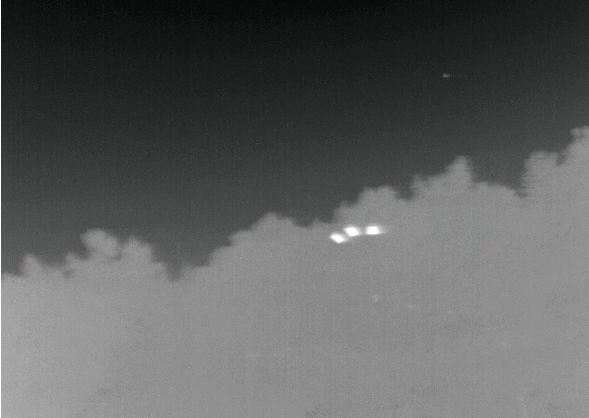dim target: (441, 71, 451, 78)
